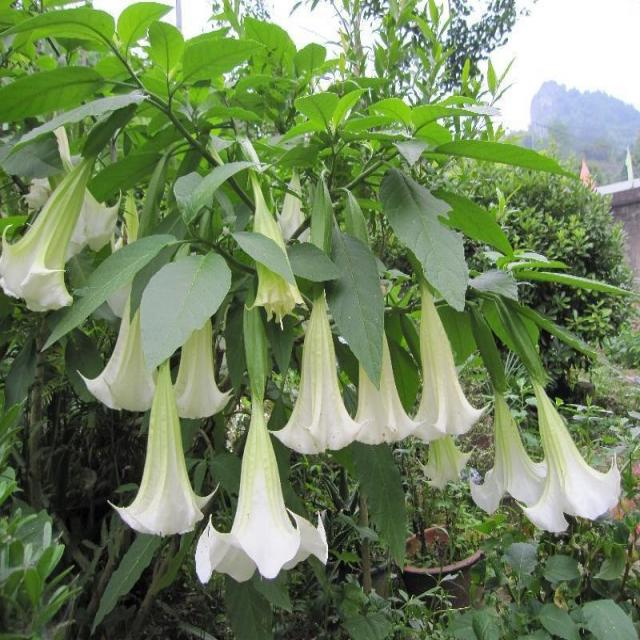organic waste: (184, 354, 340, 575), (116, 335, 218, 548), (500, 374, 627, 529), (8, 103, 98, 314), (391, 275, 496, 444), (324, 256, 413, 447), (454, 360, 554, 527), (274, 248, 355, 452), (86, 246, 164, 419), (162, 260, 242, 424)
